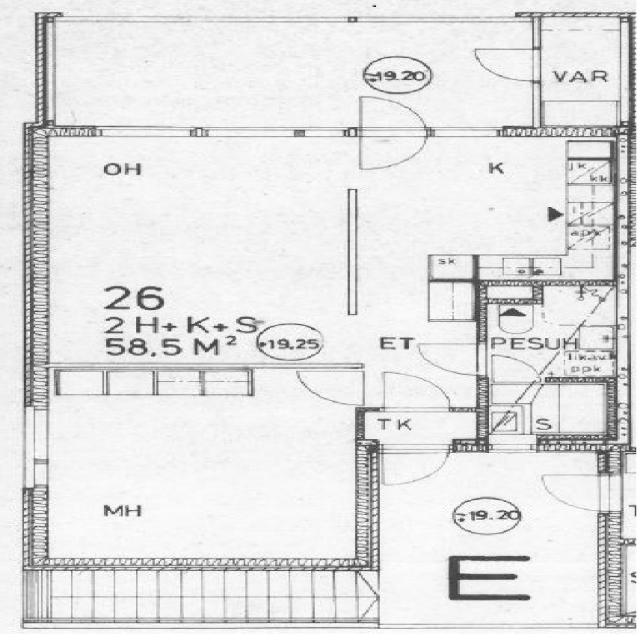door: (22, 136, 356, 370), (28, 369, 372, 567), (45, 20, 369, 130), (355, 95, 431, 172), (538, 471, 620, 514), (375, 369, 453, 413), (377, 444, 455, 486), (294, 366, 370, 407), (416, 342, 490, 378), (473, 46, 544, 83), (484, 352, 543, 386)
window: (15, 403, 56, 488), (186, 125, 343, 140), (88, 122, 206, 141), (426, 125, 508, 140)
zone: (30, 373, 362, 568), (356, 136, 612, 280), (483, 283, 620, 381), (537, 14, 629, 124), (486, 379, 620, 448), (358, 408, 486, 449), (538, 471, 620, 513)
